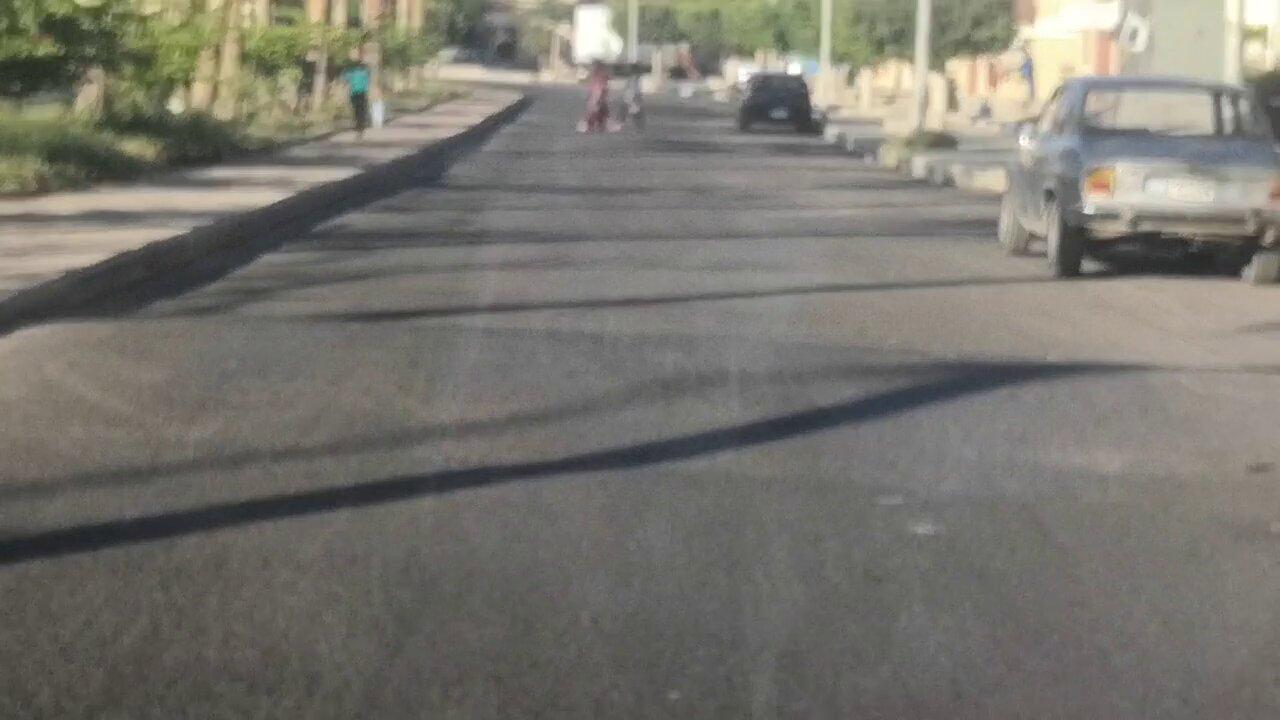Bump: (55, 318, 1270, 482)
